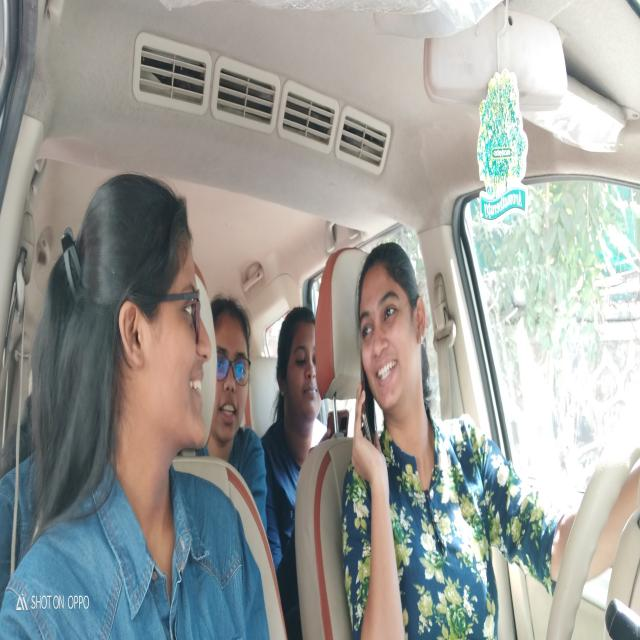mobile: (357, 353, 382, 447)
person: (140, 175, 224, 467), (352, 232, 442, 438), (213, 267, 262, 456), (280, 292, 333, 438)
